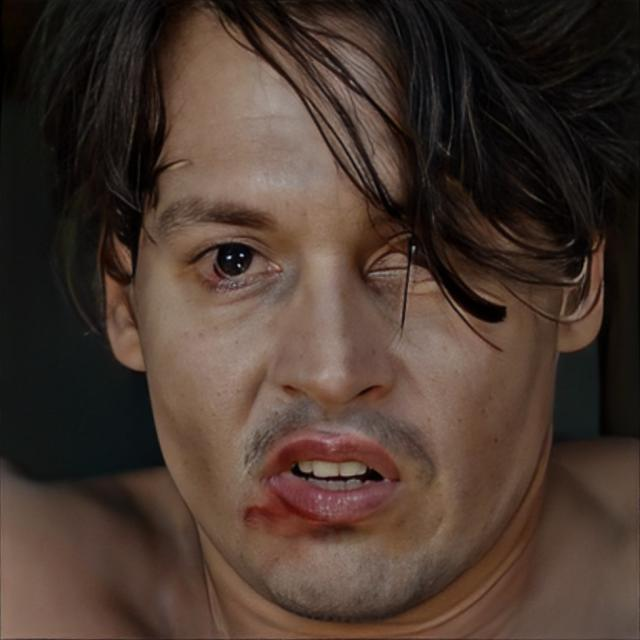disgust: (132, 0, 558, 622)
